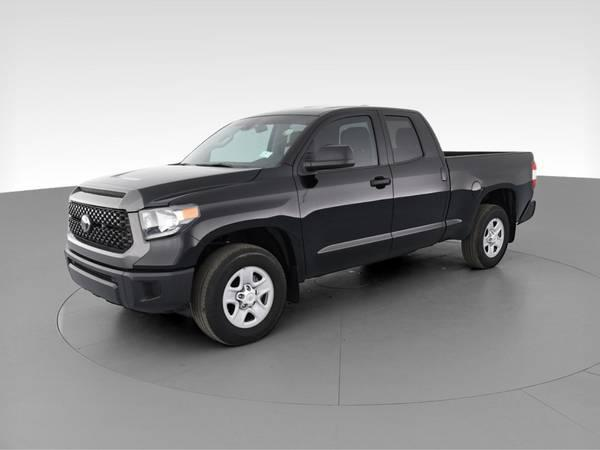Front_Bumper: (65, 247, 193, 312)
Front_Fender: (134, 164, 306, 283)
Front_Left_Door: (294, 164, 392, 277)
Front_Left_Window: (294, 115, 393, 175)
Front_Windshield: (178, 115, 316, 168)
Grille: (66, 198, 149, 266)
Hood: (72, 163, 270, 209)
Left_Headlight: (140, 206, 200, 244)
Rear_Bumper: (518, 200, 536, 223)
Rear_Fender: (446, 153, 536, 241)
Rear_Left_Door: (391, 158, 448, 255)
Rear_Right_Window: (382, 114, 427, 163)
Roof: (239, 107, 446, 169)
Wheel: (189, 242, 286, 345), (461, 205, 510, 270)
